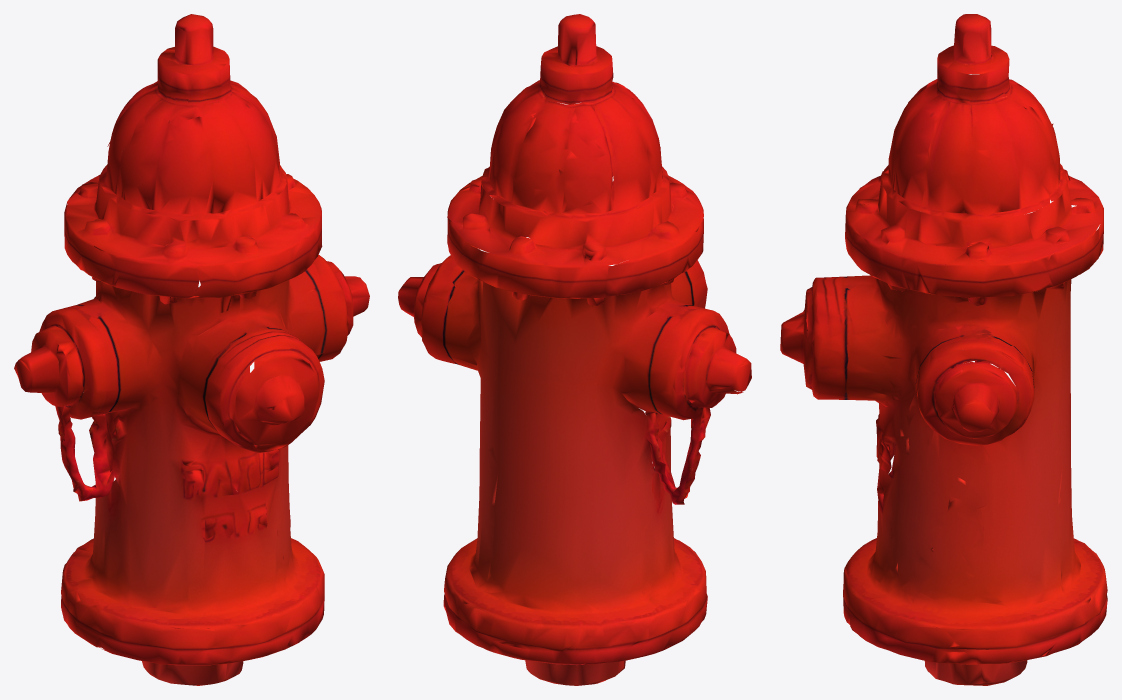
Rendered from fire-2.glb.
The picture shows the model from 3 angles, left to right: view 1: azimuth 30°, elevation 25°; view 2: azimuth 150°, elevation 25°; view 3: azimuth 270°, elevation 25°; orthographic projection.
Parts seen in each view (by area): view 1: 326887ce-5c56-4679-8320-d22423b734e1_texturing.obj; view 2: 326887ce-5c56-4679-8320-d22423b734e1_texturing.obj; view 3: 326887ce-5c56-4679-8320-d22423b734e1_texturing.obj.
Boxes of the visible parts, x1,y1,x2,y2 form: 326887ce-5c56-4679-8320-d22423b734e1_texturing.obj: (14, 14, 369, 685); 326887ce-5c56-4679-8320-d22423b734e1_texturing.obj: (398, 14, 751, 685); 326887ce-5c56-4679-8320-d22423b734e1_texturing.obj: (780, 14, 1107, 685).
Size of the model in its own units: 1.1 by 1.99 by 0.9134.
1 material, 1 textured.
